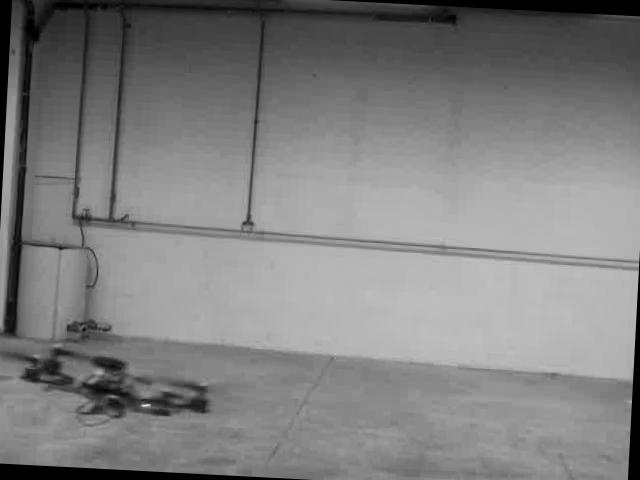drone: (2, 338, 216, 432)
